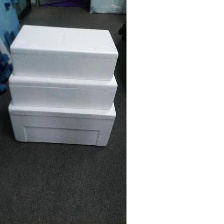foam_box: (6, 20, 123, 84), (4, 93, 119, 150), (3, 67, 121, 113)
